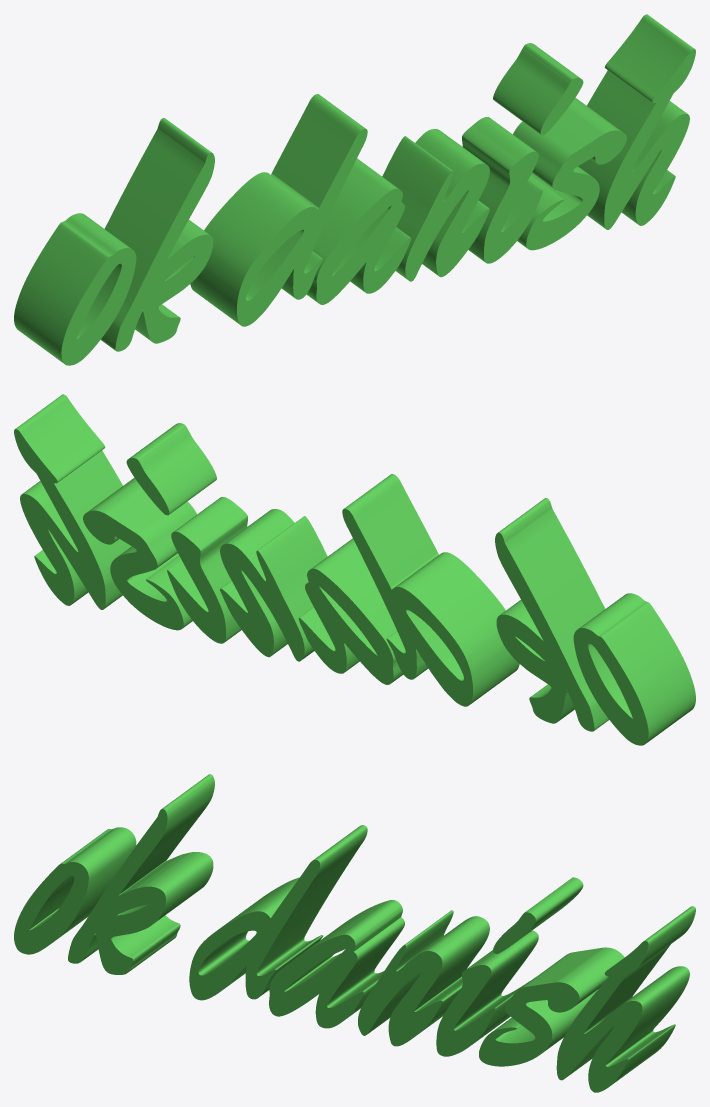
3 renders of one model, top to bottom at view 1: azimuth 30°, elevation 25°; view 2: azimuth 150°, elevation 25°; view 3: azimuth 330°, elevation 25°, orthographic.
Visible parts, largest first — view 1: Text; view 2: Text; view 3: Text.
Part boxes in pixels (x1,y1,x2,y2): Text: [14, 14, 695, 365]; Text: [14, 394, 695, 745]; Text: [14, 774, 695, 1092].
Size of the model in its own units: 3.47 by 0.9538 by 0.45.
